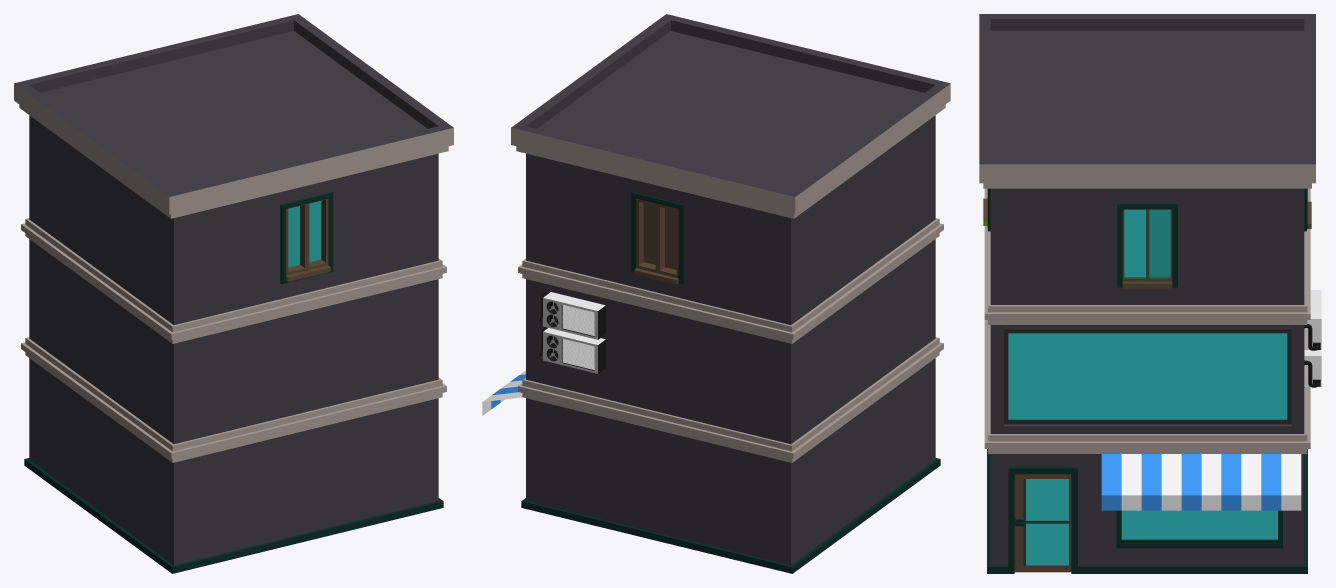
Rendered from PropBuilding_GeneralStore.fbx.
The picture shows the model from 3 angles, left to right: view 1: azimuth 30°, elevation 25°; view 2: azimuth 150°, elevation 25°; view 3: azimuth 270°, elevation 25°; orthographic projection. The views are drawn at different scales.
Parts seen in each view (by area): view 1: GeneralStore_Body, GeneralStore_Window_2; view 2: GeneralStore_Body, GeneralStore_Window_3, AC MODEL.006, AC MODEL.007, GeneralStore_Awning; view 3: GeneralStore_Body, GeneralStore_Billboard, GeneralStore_Awning, GeneralStore_Door, GeneralStore_Window_1, AC MODEL.006, AC MODEL.007.
Part boxes in pixels (box(x1,y1,x2,y2)): GeneralStore_Body: box(14, 14, 453, 573); GeneralStore_Window_2: box(286, 198, 330, 281); GeneralStore_Body: box(511, 14, 950, 573); GeneralStore_Window_3: box(634, 199, 678, 284); AC MODEL.006: box(539, 292, 605, 339); AC MODEL.007: box(539, 327, 605, 373); GeneralStore_Awning: box(482, 370, 525, 415); GeneralStore_Body: box(979, 14, 1315, 573); GeneralStore_Billboard: box(1004, 327, 1291, 424); GeneralStore_Awning: box(1101, 454, 1301, 510); GeneralStore_Door: box(1014, 474, 1071, 572); GeneralStore_Window_1: box(1122, 209, 1172, 288); AC MODEL.006: box(1304, 290, 1321, 350); AC MODEL.007: box(1304, 350, 1321, 387).
Bounding box in the file's own units: 1938 × 2206 × 1658.
8 materials, 8 textured.
